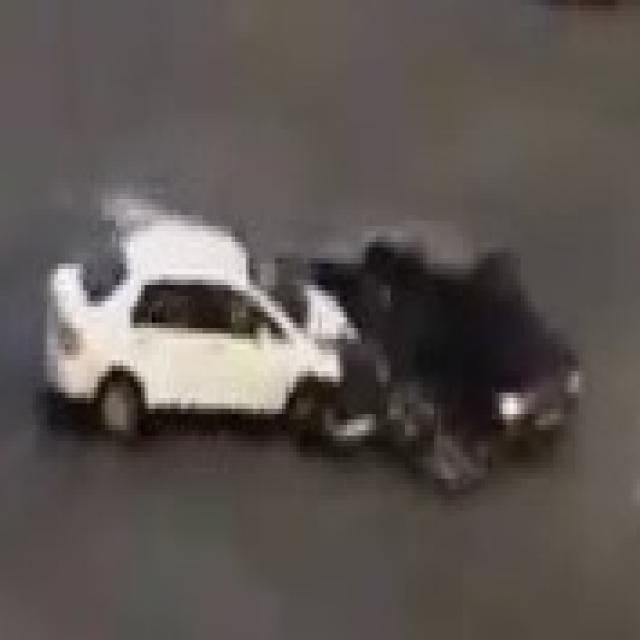accident: (15, 140, 588, 510)
